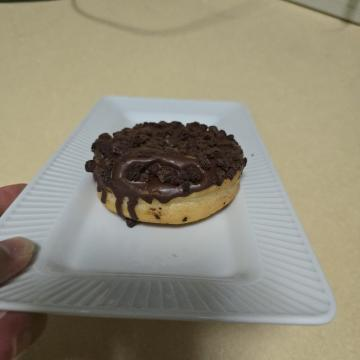doughnut: (114, 106, 240, 294)
